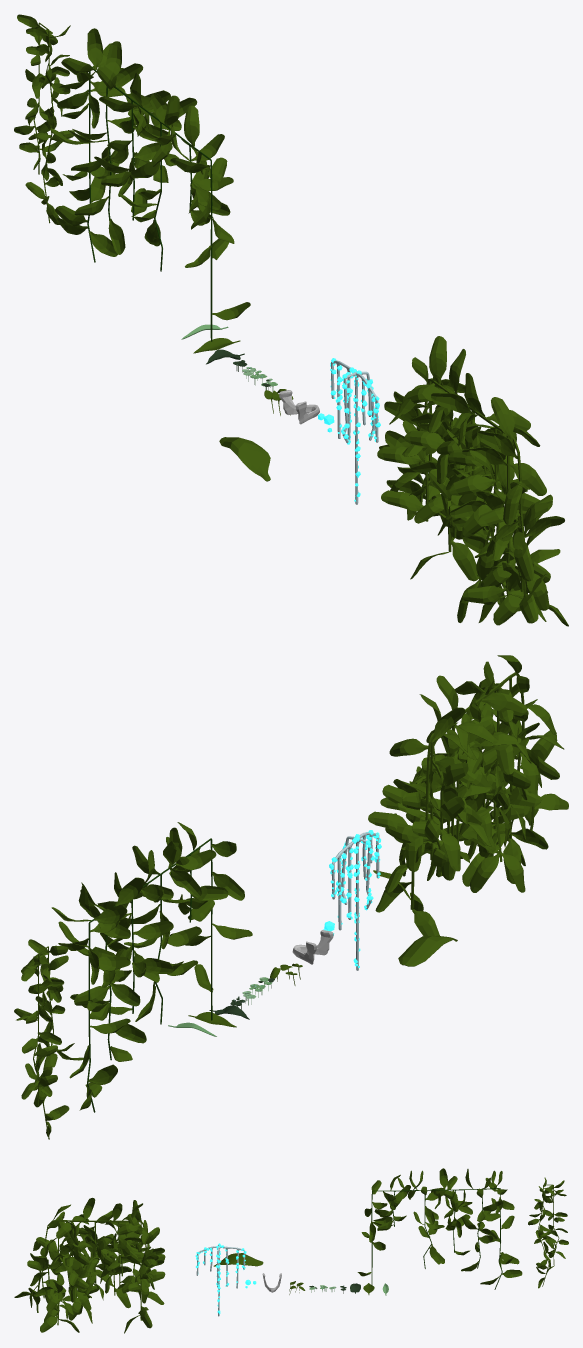
The model's file is ENVIR+.fbx.
3 renders of one model, top to bottom at view 1: azimuth 30°, elevation 25°; view 2: azimuth 150°, elevation 25°; view 3: azimuth 270°, elevation 25°, orthographic. The views are drawn at different scales.
Visible parts, largest first — view 1: Vert.007, Vert, Vert.009, Plane.002; view 2: Vert, Vert.009, Vert.007, Plane.002, mandiable, Vert|Plane.002|Dupli|55, Vert|Plane.002|Dupli|157; view 3: Vert, Vert.007, Vert.009, Plane.002.
Boxes of the visible parts, x1,y1,x2,y2 form: Vert.007: (87, 66, 212, 341); Vert: (419, 378, 529, 623); Vert.009: (331, 360, 378, 504); Plane.002: (219, 437, 270, 481); Vert: (410, 672, 534, 909); Vert.009: (331, 832, 379, 970); Vert.007: (87, 838, 212, 1112); Plane.002: (398, 935, 457, 966); mandiable: (292, 930, 333, 964); Vert|Plane.002|Dupli|55: (481, 692, 526, 716); Vert|Plane.002|Dupli|157: (470, 854, 499, 892); Vert: (36, 1220, 146, 1325); Vert.007: (371, 1188, 502, 1289); Vert.009: (196, 1245, 245, 1316); Plane.002: (213, 1253, 263, 1266).
Bounding box in the file's own units: 2900 × 5187 × 16425.
